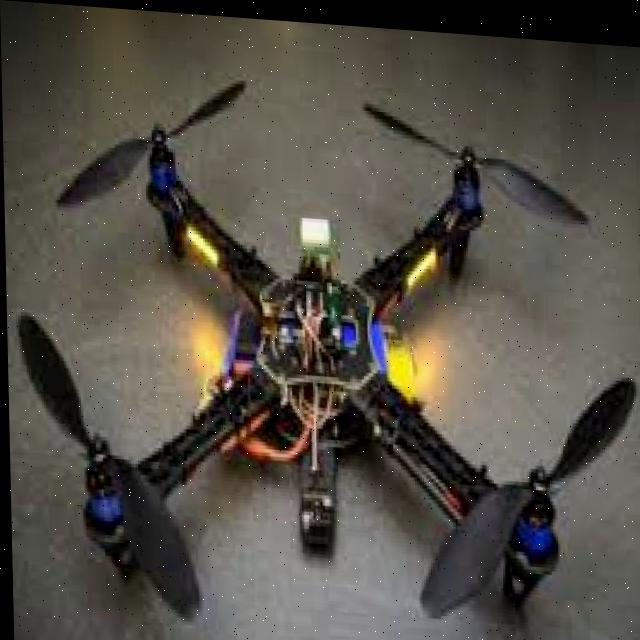drone: (15, 74, 621, 640)
